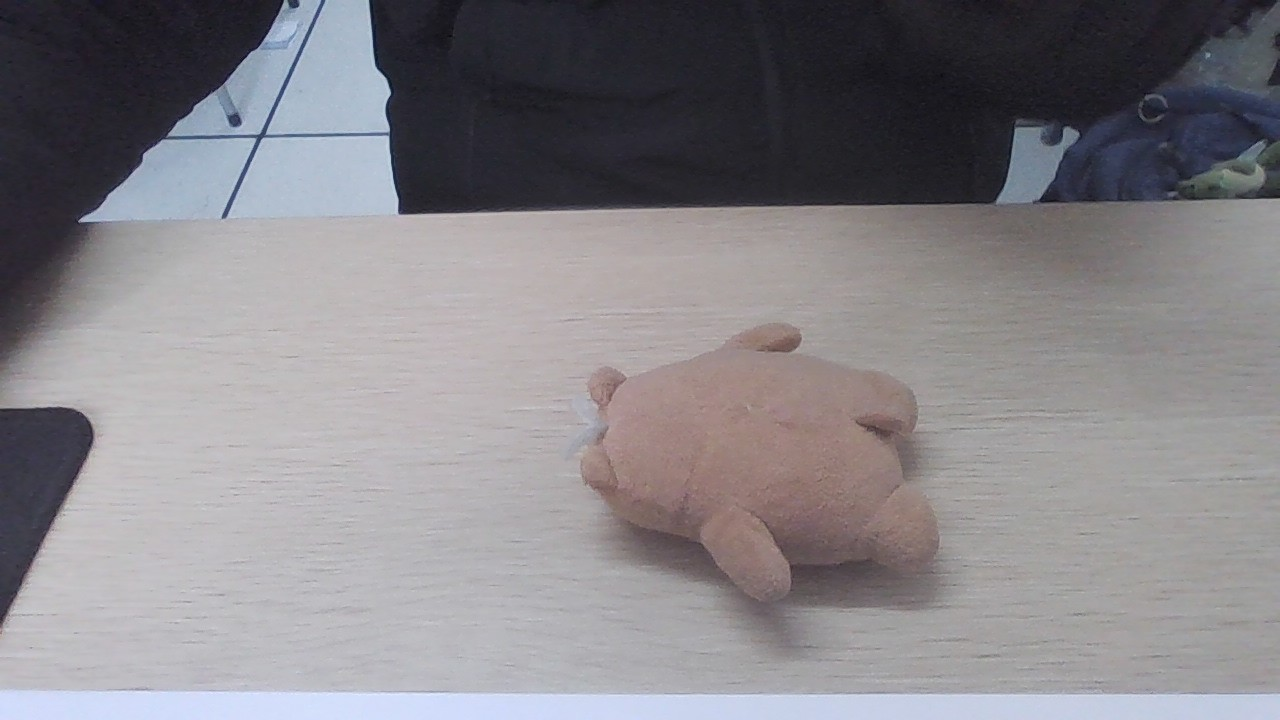KHS-doll: (606, 335, 920, 582)
